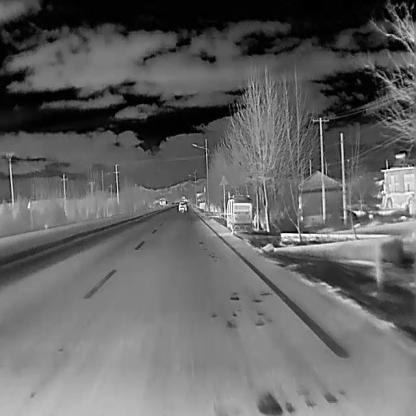car: (178, 200, 187, 210)
